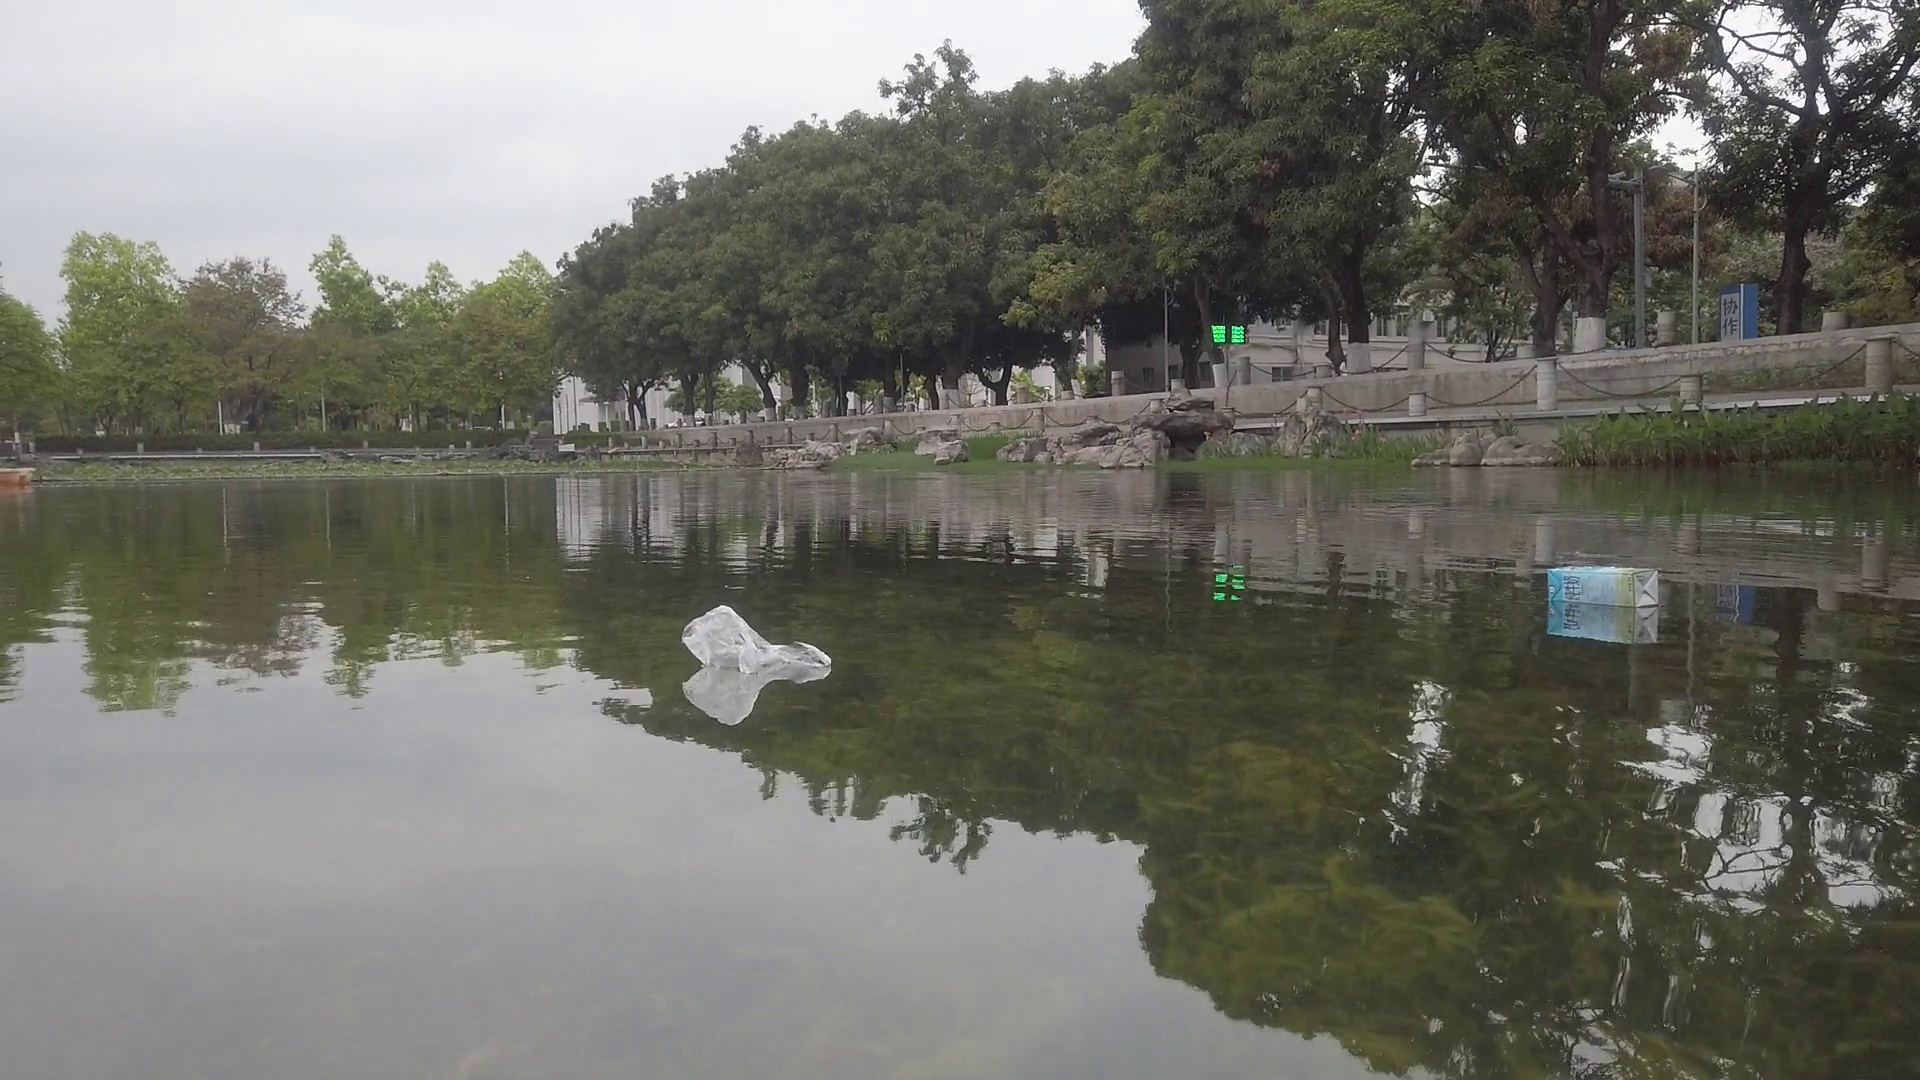carton: (1545, 564, 1660, 605)
plastic: (682, 603, 831, 675)
